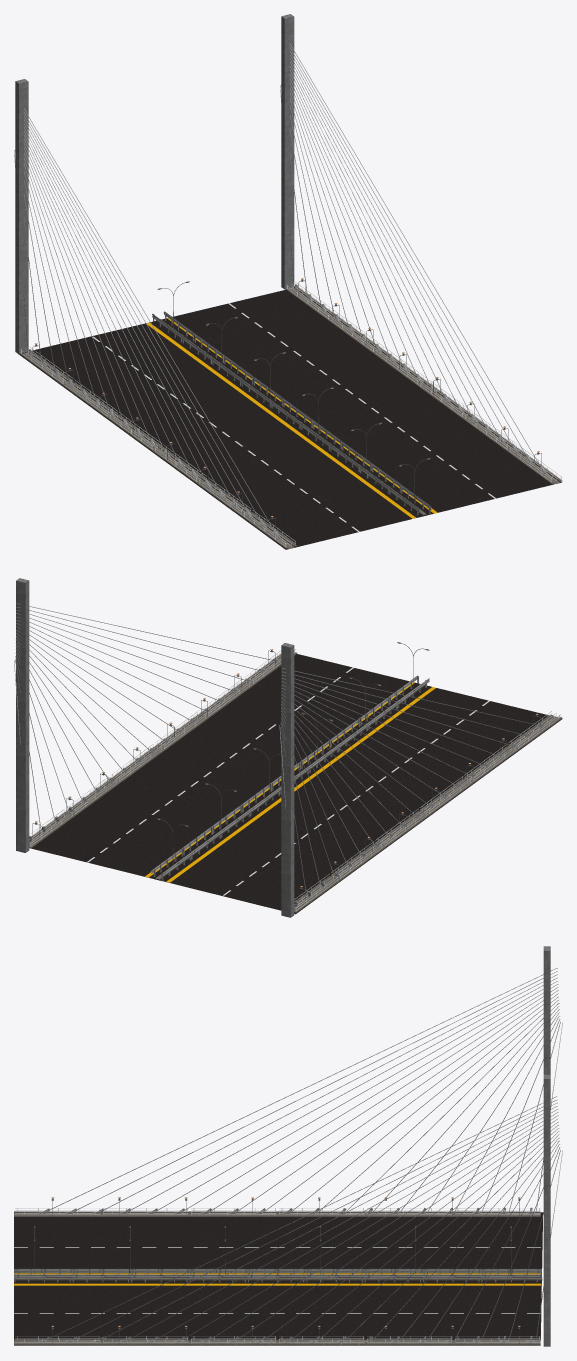
Rendered from bridge.glb.
3 views of the same model, one above another, from view 1: azimuth 30°, elevation 25°; view 2: azimuth 150°, elevation 25°; view 3: azimuth 270°, elevation 25° (orthographic).
Visible parts, largest first — view 1: main_road, cables_right, cables_left, bridge_supports_Baked, bridge_supports_Baked.001, side_concrete_Baked.001, side_concrete_Baked, side_railings2, side_railings1, guardrile_right, guardrile_left, yellow_sign_left (+2 smaller); view 2: main_road, bridge_supports_Baked.001, cables_left, bridge_supports_Baked, cables_right, side_concrete_Baked.001, side_concrete_Baked, side_railings1, side_railings2, guardrile_right, guardrile_left, yellow_sign_left (+4 smaller); view 3: main_road, cables_right, cables_left, side_railings2, side_railings1, guardrile_left, side_concrete_Baked.001, side_concrete_Baked, guardrile_right, bridge_supports_Baked.001, yellow_sign_right, center_concrete (+4 smaller).
Boxes of the visible parts, bbox=[...] form: main_road: bbox=[18, 290, 561, 549]; cables_right: bbox=[280, 44, 539, 464]; cables_left: bbox=[14, 108, 273, 529]; bridge_supports_Baked: bbox=[15, 79, 28, 353]; bridge_supports_Baked.001: bbox=[281, 14, 294, 289]; side_concrete_Baked.001: bbox=[20, 352, 296, 549]; side_concrete_Baked: bbox=[285, 286, 562, 484]; side_railings2: bbox=[286, 282, 561, 482]; side_railings1: bbox=[20, 347, 295, 547]; guardrile_right: bbox=[163, 311, 431, 514]; guardrile_left: bbox=[152, 314, 419, 515]; yellow_sign_left: bbox=[146, 322, 415, 518]; main_road: bbox=[29, 654, 562, 914]; bridge_supports_Baked.001: bbox=[16, 578, 29, 852]; cables_left: bbox=[279, 668, 538, 897]; bridge_supports_Baked: bbox=[281, 643, 294, 917]; cables_right: bbox=[14, 603, 273, 832]; side_concrete_Baked.001: bbox=[294, 715, 562, 912]; side_concrete_Baked: bbox=[29, 652, 297, 847]; side_railings1: bbox=[294, 711, 560, 912]; side_railings2: bbox=[29, 649, 295, 847]; guardrile_right: bbox=[151, 675, 418, 876]; guardrile_left: bbox=[161, 678, 429, 880]; yellow_sign_left: bbox=[166, 687, 435, 882]; main_road: bbox=[14, 1212, 543, 1345]; cables_right: bbox=[47, 1096, 562, 1341]; cables_left: bbox=[47, 968, 562, 1212]; side_railings2: bbox=[15, 1336, 540, 1344]; side_railings1: bbox=[15, 1208, 540, 1215]; guardrile_left: bbox=[14, 1268, 541, 1274]; side_concrete_Baked.001: bbox=[14, 1211, 540, 1216]; side_concrete_Baked: bbox=[14, 1339, 540, 1344]; guardrile_right: bbox=[14, 1274, 541, 1282]; bridge_supports_Baked.001: bbox=[543, 1074, 550, 1346]; yellow_sign_right: bbox=[14, 1283, 541, 1285]; center_concrete: bbox=[14, 1277, 542, 1280].
Size of the model in its own units: 8.25 by 7.7 by 14.31.
Materials: 12 (5 with a texture image).
